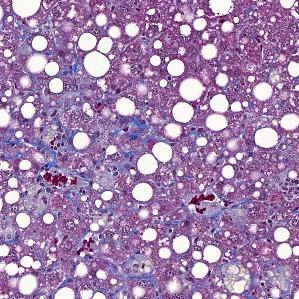fibrosis: (173, 179, 256, 242)
